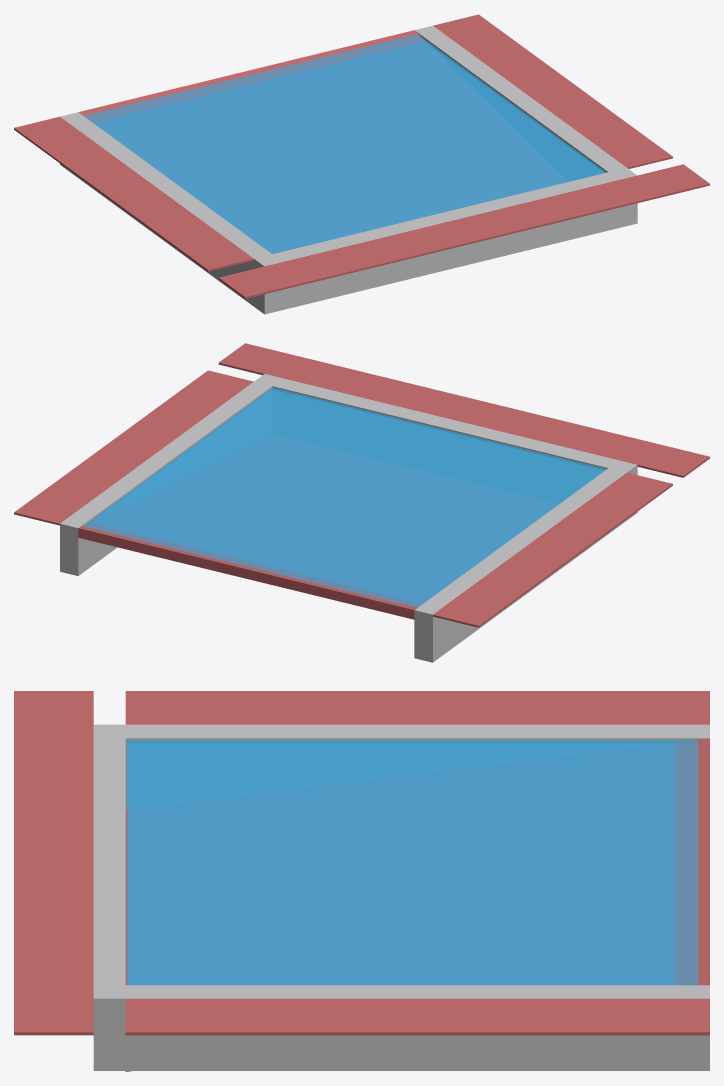
The model's file is Water pit.glb.
3 views of the same model, one above another, from view 1: azimuth 30°, elevation 25°; view 2: azimuth 150°, elevation 25°; view 3: azimuth 270°, elevation 25° (orthographic). The views are drawn at different scales.
Visible parts, largest first — view 1: WaterPit_Liquid_Volume, WaterPit_Collar_Front, WaterPit_Wall_Front, WaterPit_Collar_L, WaterPit_Collar_R, WaterPit_Floor, WaterPit_Wall_L, WaterPit_Wall_R; view 2: WaterPit_Liquid_Volume, WaterPit_Collar_Front, WaterPit_Collar_L, WaterPit_Collar_R, WaterPit_Floor, WaterPit_Wall_L, WaterPit_Wall_R, WaterPit_Wall_Front; view 3: WaterPit_Liquid_Volume, WaterPit_Wall_R, WaterPit_Collar_Front, WaterPit_Collar_R, WaterPit_Collar_L, WaterPit_Wall_Front, WaterPit_Wall_L, WaterPit_Floor.
Part boxes in pixels (x1,y1,x2,y2): WaterPit_Liquid_Volume: [84, 34, 605, 253]; WaterPit_Collar_Front: [218, 164, 709, 298]; WaterPit_Wall_Front: [254, 168, 637, 314]; WaterPit_Collar_L: [14, 116, 253, 271]; WaterPit_Collar_R: [433, 14, 672, 168]; WaterPit_Floor: [78, 30, 424, 122]; WaterPit_Wall_L: [60, 112, 271, 306]; WaterPit_Wall_R: [415, 25, 626, 172]; WaterPit_Liquid_Volume: [83, 388, 606, 607]; WaterPit_Collar_Front: [218, 343, 709, 477]; WaterPit_Collar_L: [433, 472, 672, 627]; WaterPit_Collar_R: [14, 370, 253, 525]; WaterPit_Floor: [78, 523, 422, 619]; WaterPit_Wall_L: [414, 468, 626, 662]; WaterPit_Wall_R: [60, 381, 272, 575]; WaterPit_Wall_Front: [254, 374, 637, 520]; WaterPit_Liquid_Volume: [127, 740, 698, 985]; WaterPit_Wall_R: [125, 985, 709, 1070]; WaterPit_Collar_Front: [14, 691, 93, 1035]; WaterPit_Collar_R: [125, 998, 709, 1035]; WaterPit_Collar_L: [125, 691, 709, 724]; WaterPit_Wall_Front: [93, 724, 125, 1070]; WaterPit_Wall_L: [125, 724, 709, 810]; WaterPit_Floor: [125, 738, 709, 1071].
Bounding box in the file's own units: 5.06 × 0.6 × 4.36.
